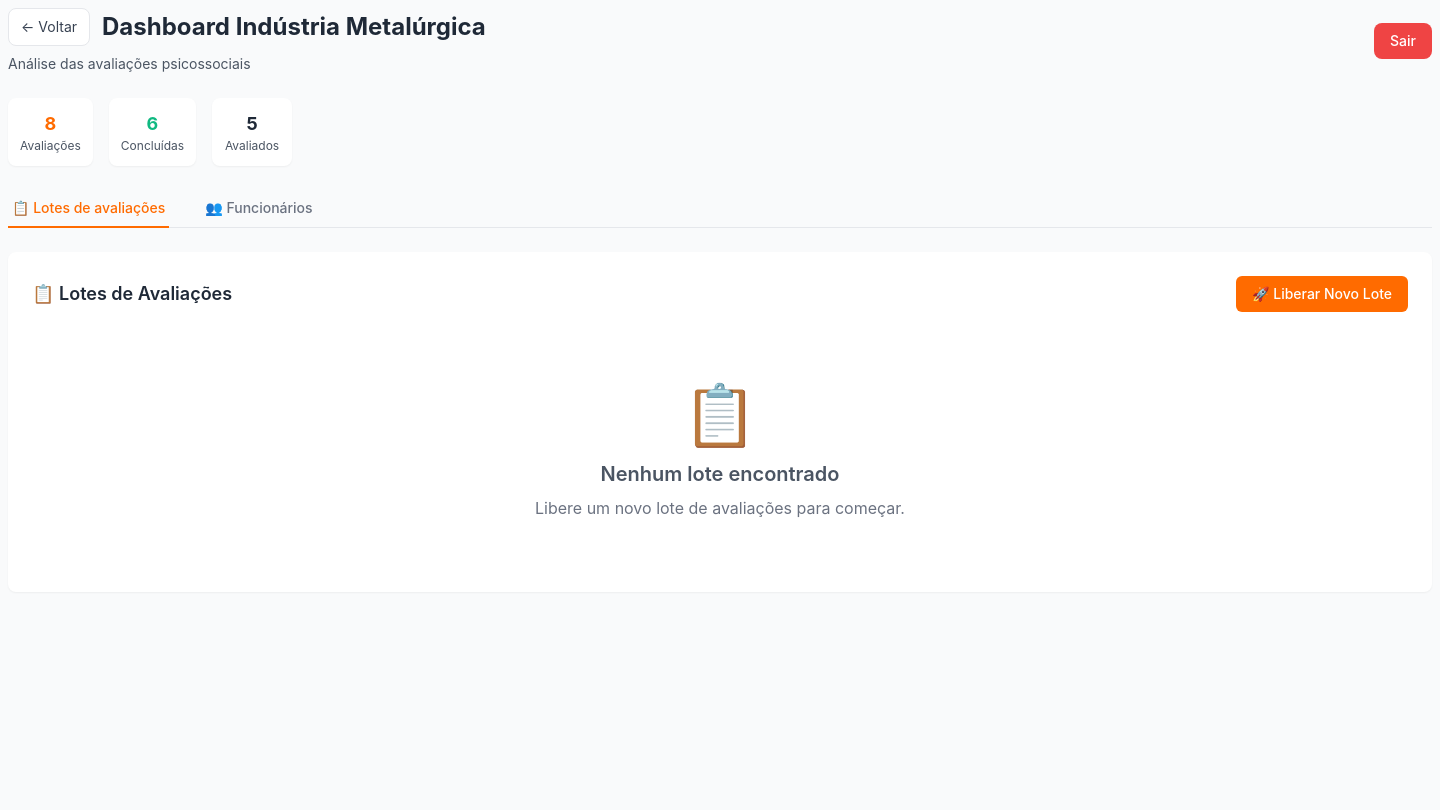
Test: RH Empresa Dashboard › Funcionalidades de gestão › deve exibir seção de upload de funcionários
Note: Clicar na aba Funcionários
Click the button "👥 Funcionários" at (259, 209), box [201,190,317,228]
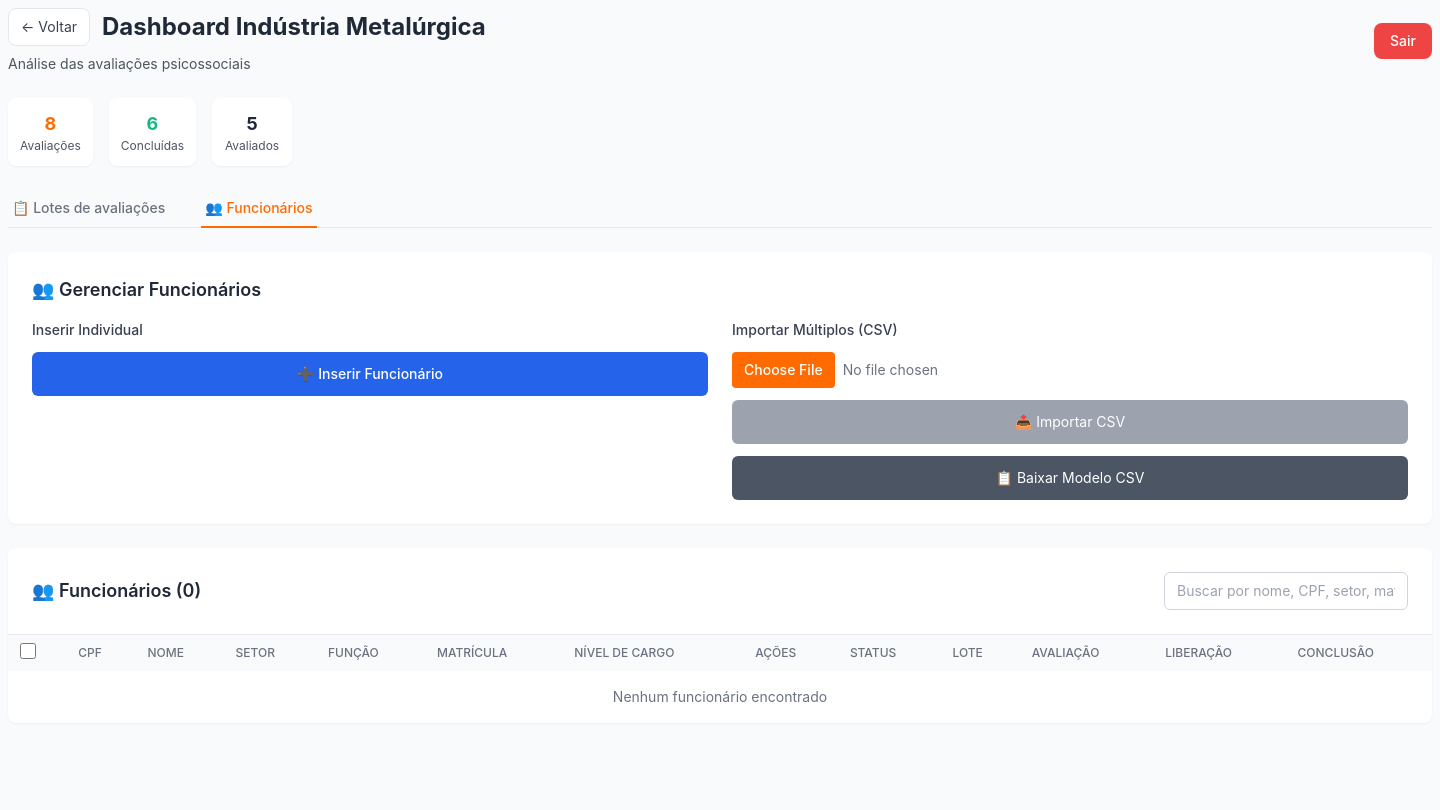
Expected: the heading "Importar Múltiplos (CSV)" is shown, [732,321,898,338]
Expected: the link "📋 Baixar Modelo CSV" is shown, [732,456,1408,500]
